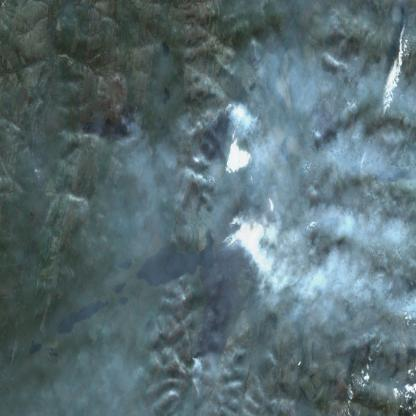fire: (219, 195, 268, 305), (219, 90, 251, 146)
